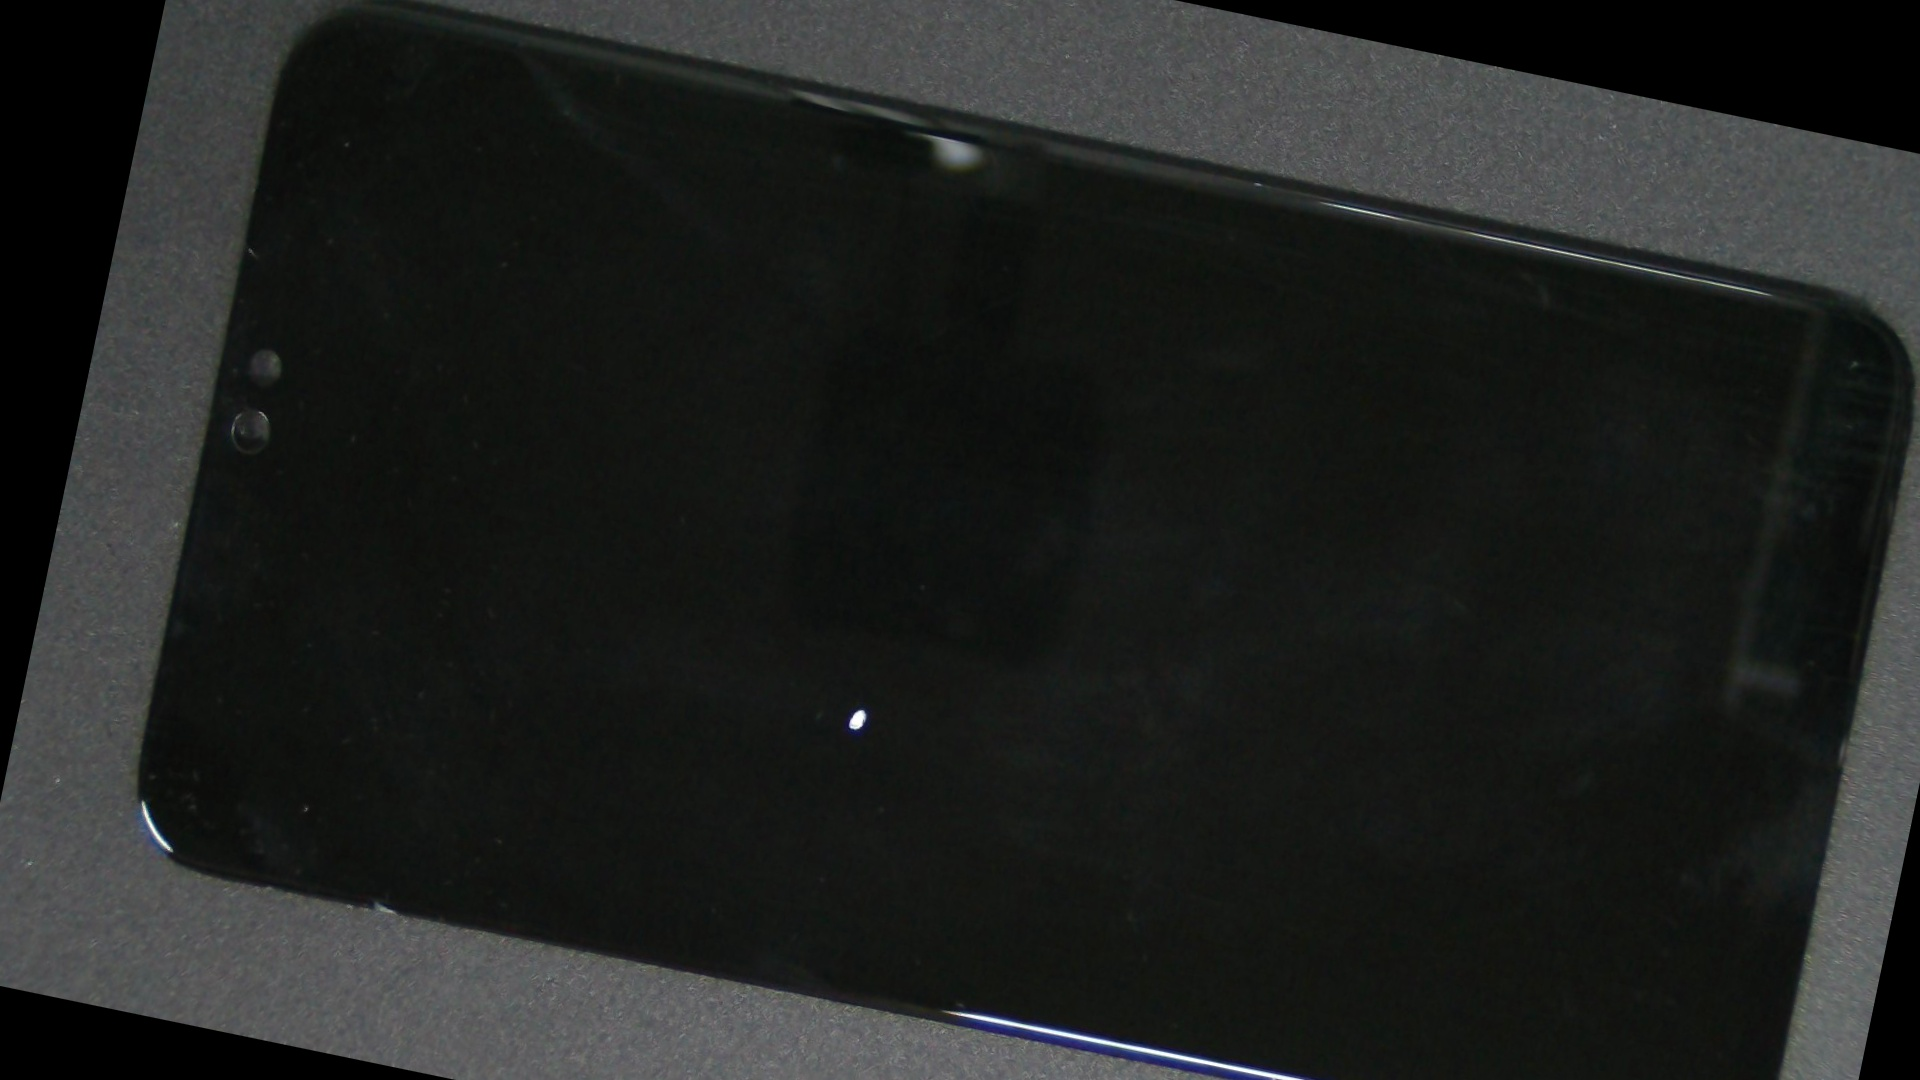oil: (381, 253, 1338, 1080)
